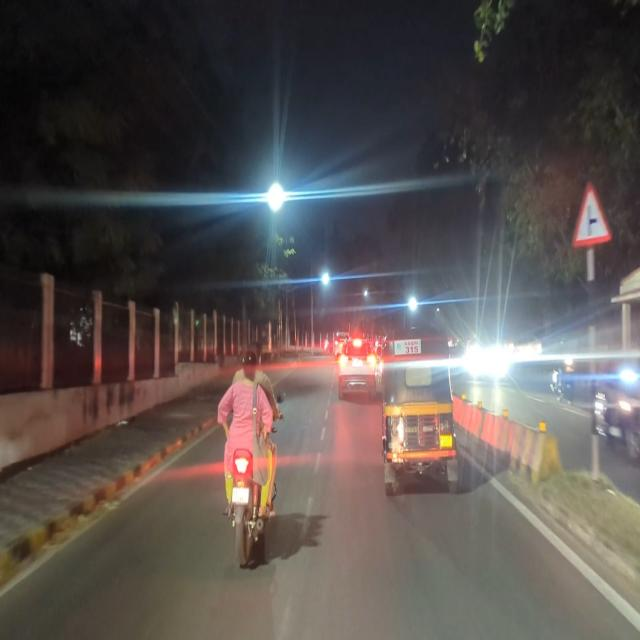bien_cam: (570, 179, 612, 246)
